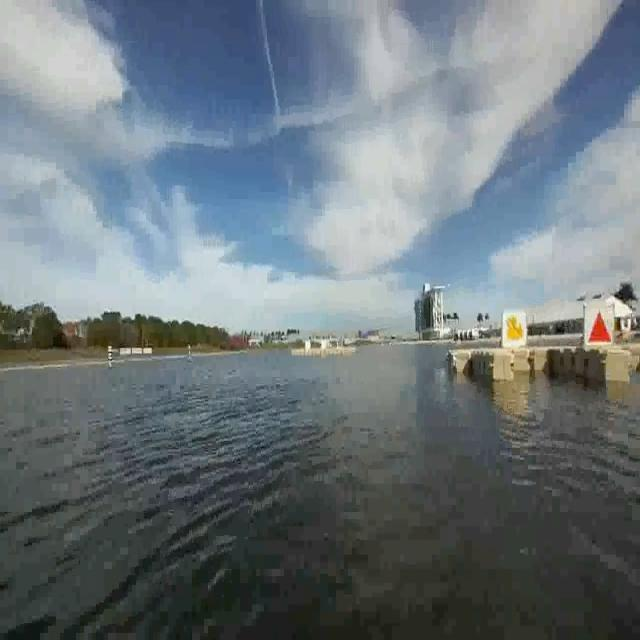red-dot: (585, 308, 611, 353)
yellow-duck: (502, 307, 525, 352)
